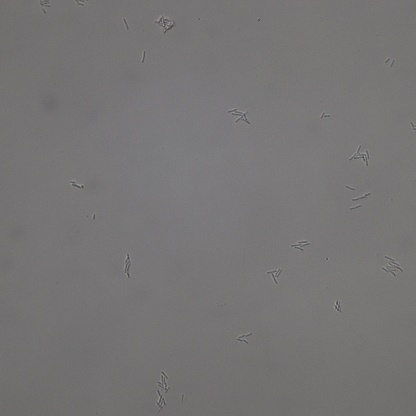R(colony): (381, 255, 403, 277), (349, 144, 371, 166), (228, 108, 251, 124), (157, 371, 172, 393), (266, 267, 283, 284), (154, 391, 167, 413), (290, 239, 310, 251), (236, 333, 253, 345)
